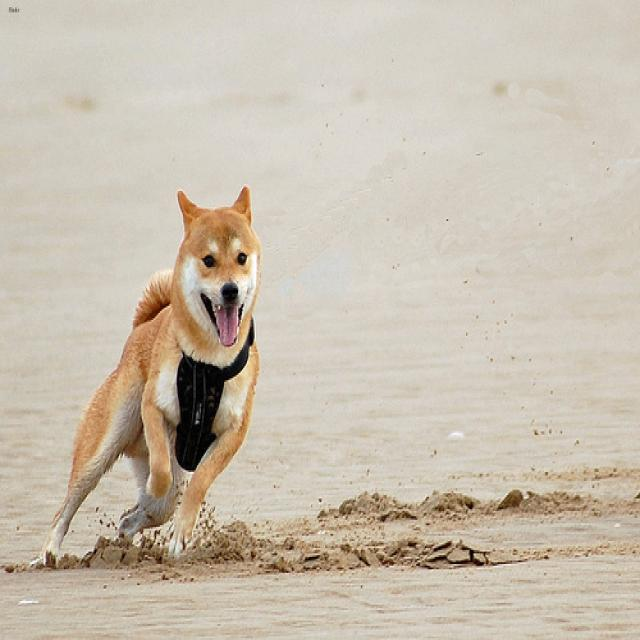dog-shiba_inu: (37, 182, 265, 566)
